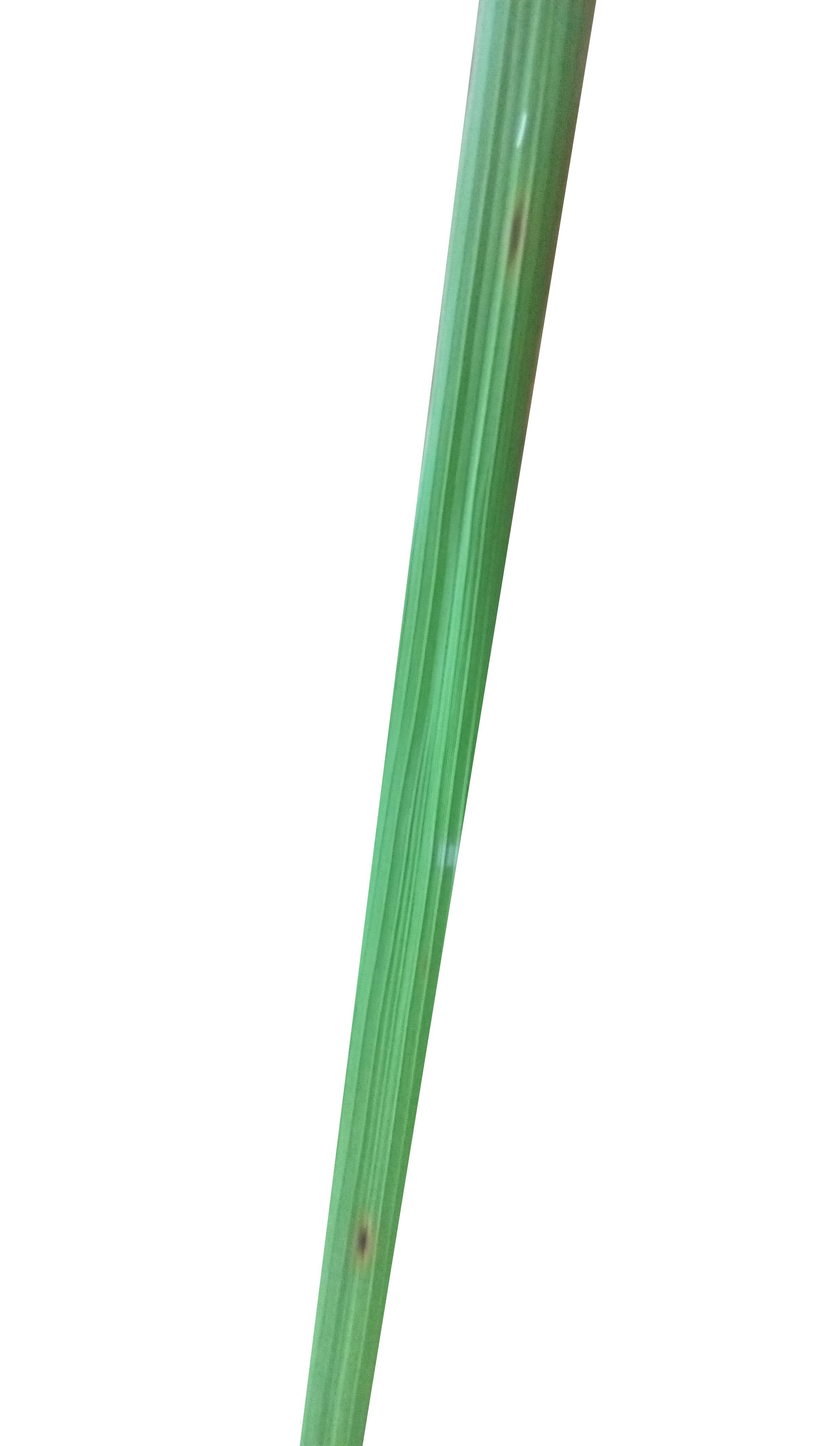Brown spot: (347, 1189, 400, 1279)
